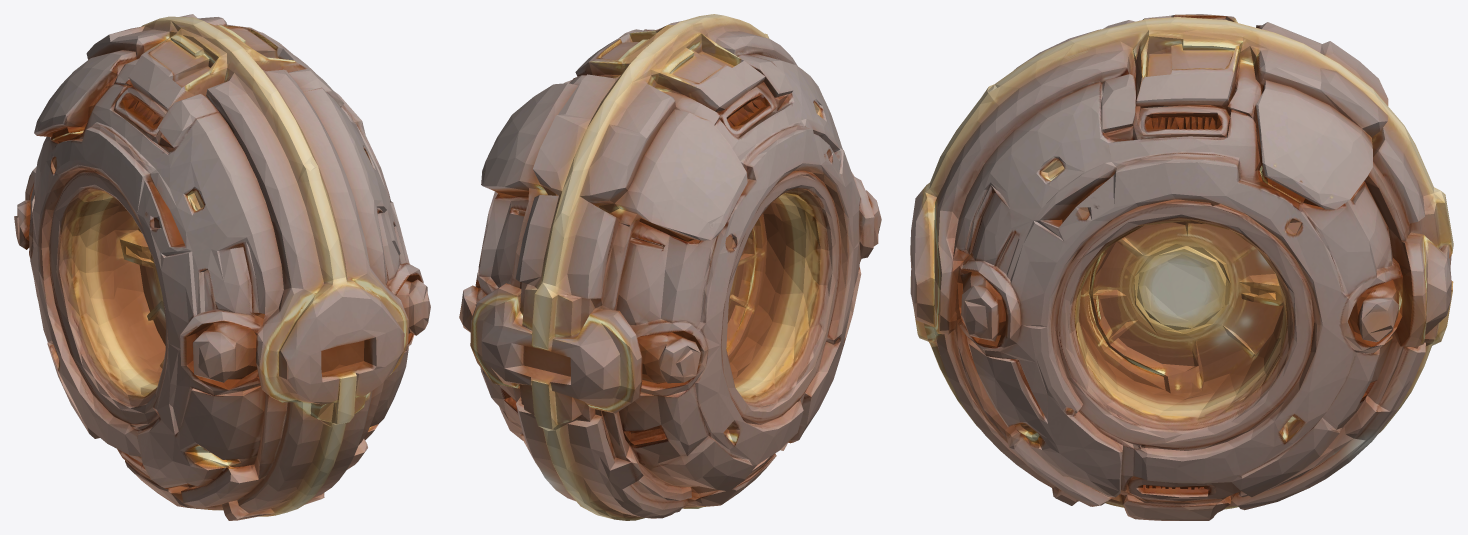
The model's file is knd_energy_orb_neon_01.glb.
The picture shows the model from 3 angles, left to right: view 1: azimuth 30°, elevation 25°; view 2: azimuth 150°, elevation 25°; view 3: azimuth 270°, elevation 25°; orthographic projection. The views are drawn at different scales.
Parts seen in each view (by area): view 1: tripo_node_2aae352e-d689-49ae-9e4c-d9a6a7883bd5; view 2: tripo_node_2aae352e-d689-49ae-9e4c-d9a6a7883bd5; view 3: tripo_node_2aae352e-d689-49ae-9e4c-d9a6a7883bd5.
Part boxes in pixels (box(x1,y1,x2,y2)): tripo_node_2aae352e-d689-49ae-9e4c-d9a6a7883bd5: box(14, 14, 430, 520); tripo_node_2aae352e-d689-49ae-9e4c-d9a6a7883bd5: box(459, 14, 881, 520); tripo_node_2aae352e-d689-49ae-9e4c-d9a6a7883bd5: box(910, 14, 1453, 520).
Bounding box in the file's own units: 0.5388 × 0.9742 × 0.9799.
Materials: 1 (1 with a texture image).
